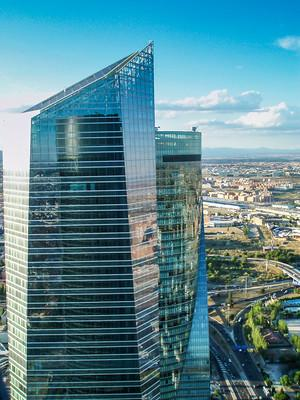building: (3, 39, 163, 400)
